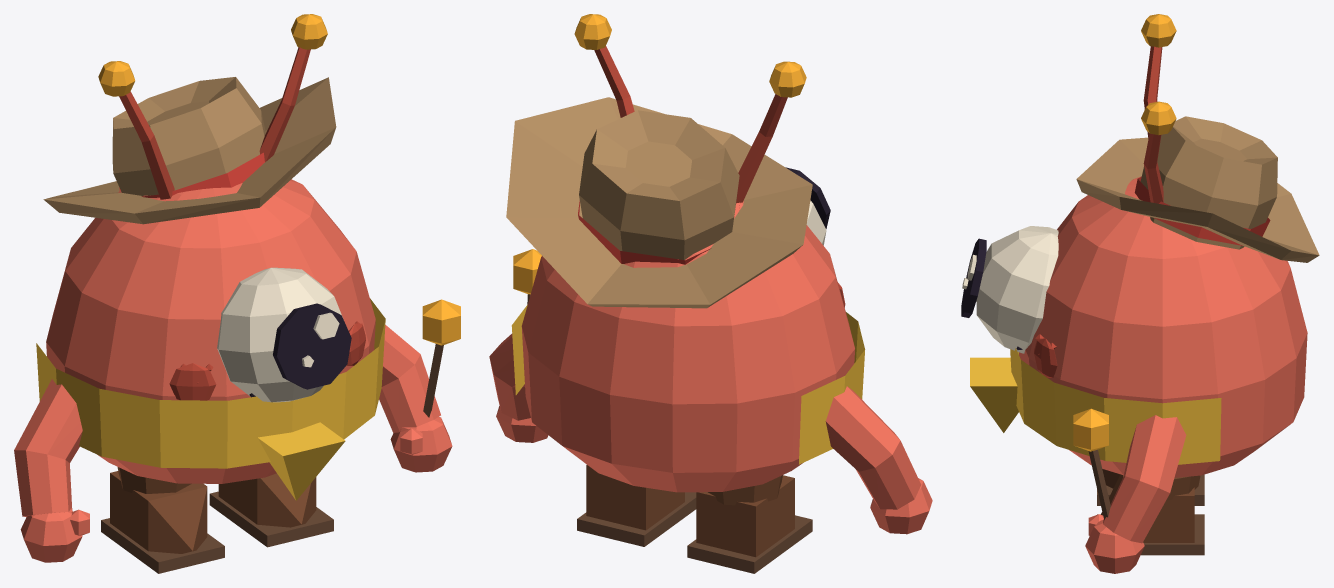
Rendered from Char_Native_Kid.obj.
The picture shows the model from 3 angles, left to right: view 1: azimuth 30°, elevation 25°; view 2: azimuth 150°, elevation 25°; view 3: azimuth 270°, elevation 25°; orthographic projection. The views are drawn at different scales.
Parts seen in each view (by area): view 1: Char_Native_Kid_Body, Char_Native_Kid_Head, Char_Native_Kid_Arm_R, Char_Native_Kid_Leg_R, Char_Native_Kid_Arm_L, Char_Native_Kid_Leg_L; view 2: Char_Native_Kid_Body, Char_Native_Kid_Leg_R, Char_Native_Kid_Arm_R, Char_Native_Kid_Head, Char_Native_Kid_Leg_L, Char_Native_Kid_Arm_L; view 3: Char_Native_Kid_Body, Char_Native_Kid_Head, Char_Native_Kid_Arm_L, Char_Native_Kid_Leg_L, Char_Native_Kid_Leg_R.
Part boxes in pixels (x1,y1,x2,y2): Char_Native_Kid_Body: [36, 77, 385, 500]; Char_Native_Kid_Head: [98, 14, 365, 402]; Char_Native_Kid_Arm_R: [14, 379, 89, 562]; Char_Native_Kid_Leg_R: [101, 467, 224, 573]; Char_Native_Kid_Arm_L: [379, 299, 460, 472]; Char_Native_Kid_Leg_L: [209, 473, 333, 547]; Char_Native_Kid_Body: [506, 97, 865, 492]; Char_Native_Kid_Leg_R: [687, 475, 812, 573]; Char_Native_Kid_Arm_R: [825, 386, 932, 534]; Char_Native_Kid_Head: [574, 14, 845, 307]; Char_Native_Kid_Leg_L: [577, 465, 696, 546]; Char_Native_Kid_Arm_L: [489, 249, 548, 442]; Char_Native_Kid_Body: [970, 116, 1319, 477]; Char_Native_Kid_Head: [961, 14, 1176, 377]; Char_Native_Kid_Arm_L: [1073, 408, 1186, 573]; Char_Native_Kid_Leg_L: [1097, 474, 1204, 555]; Char_Native_Kid_Leg_R: [1097, 469, 1204, 505].
Size of the model in its own units: 1.15 by 1.27 by 0.9006.
